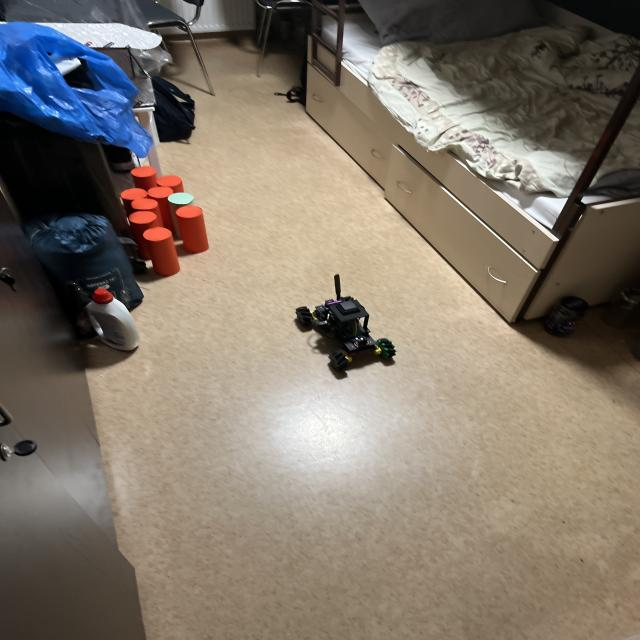robot: (296, 274, 396, 372)
